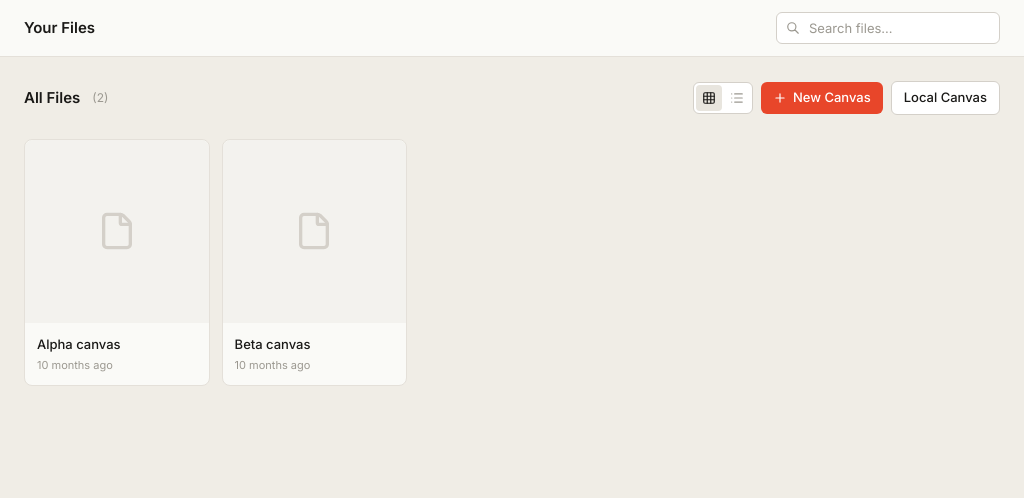
Test: DashboardFiles — search › shows the empty state when the query matches nothing
The width and height of the screenshot is (1024, 498).
Type "nothing matches" into the field with placeholder "Search files..." at (888, 28), box [776, 12, 1000, 44]
Wait 250 ms
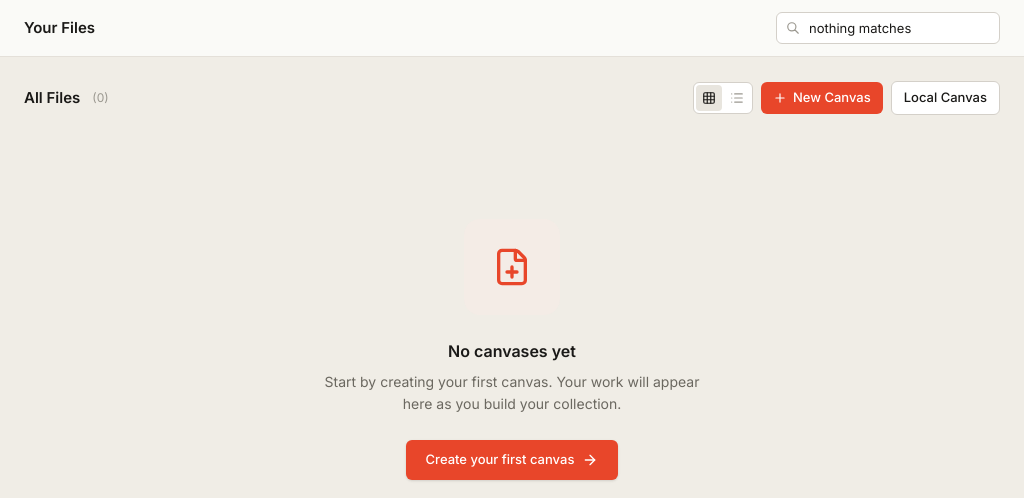
expect the heading "No canvases yet" is shown: met, box [448, 338, 576, 362]
expect no links are shown: met
